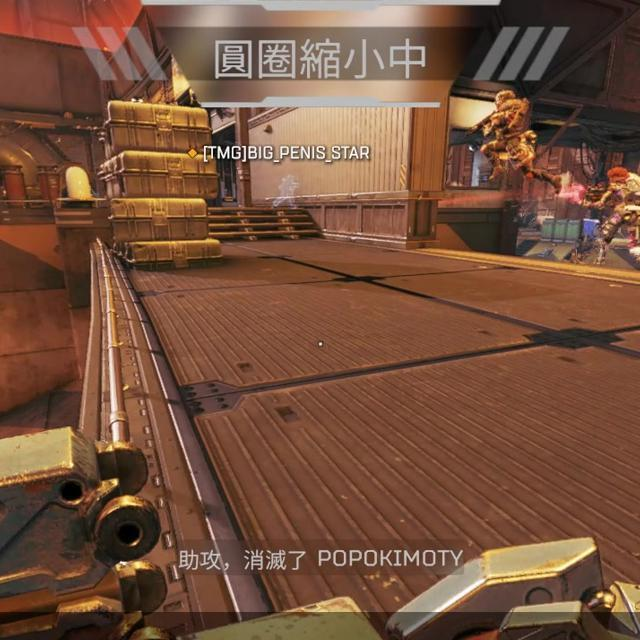avatar: (478, 89, 538, 183), (592, 165, 640, 268)
